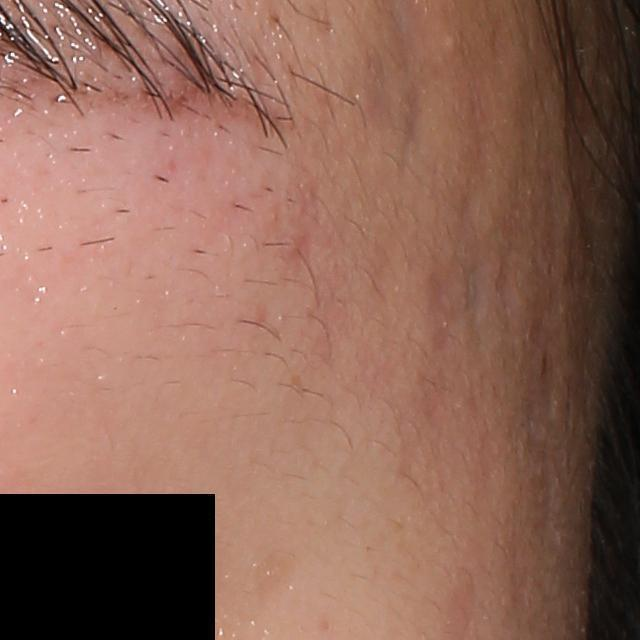comedo: (442, 30, 462, 55)
